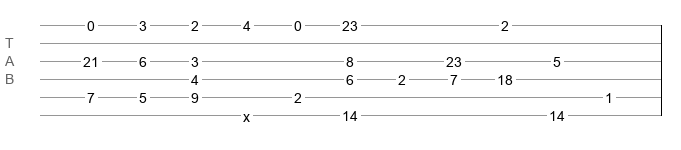0: (87, 18, 95, 28), (294, 18, 302, 28)
1: (605, 90, 613, 100)
14: (342, 108, 358, 118), (549, 108, 565, 118)
18: (497, 72, 513, 82)
2: (191, 18, 199, 28), (294, 90, 302, 100), (398, 72, 406, 82), (501, 18, 509, 28)
21: (83, 54, 99, 64)
23: (342, 18, 358, 28), (446, 54, 462, 64)
3: (139, 18, 147, 28), (191, 54, 199, 64)
4: (191, 72, 199, 82), (243, 18, 251, 28)
5: (139, 90, 147, 100), (553, 54, 561, 64)
6: (139, 54, 147, 64), (346, 72, 354, 82)
7: (87, 90, 95, 100), (450, 72, 458, 82)
8: (346, 54, 354, 64)
9: (191, 90, 199, 100)
x: (243, 109, 250, 117)
